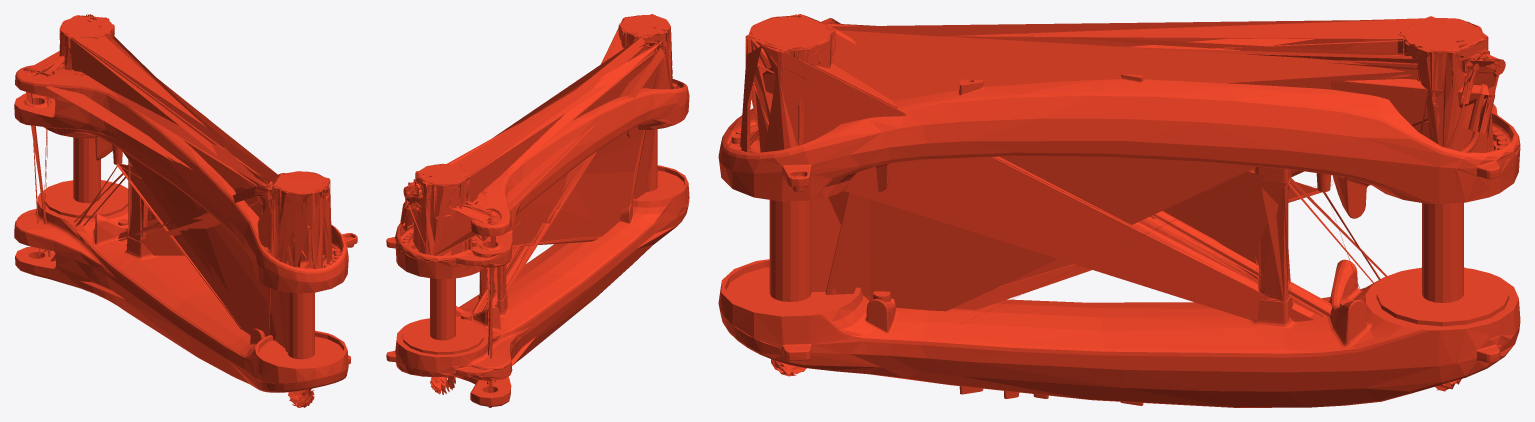
3 renders of one model, left to right at view 1: azimuth 30°, elevation 25°; view 2: azimuth 150°, elevation 25°; view 3: azimuth 270°, elevation 25°, orthographic. The views are drawn at different scales.
Size of the model in its own units: 0.5302 by 0.9524 by 1.91.
